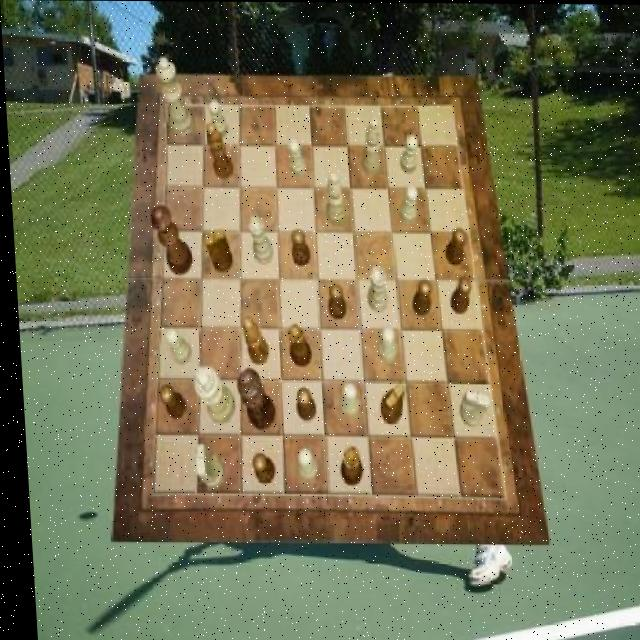bishop: (204, 123, 232, 181), (238, 317, 265, 364)
black-bishop: (231, 367, 271, 430)
black-king: (200, 229, 229, 273), (373, 380, 401, 423)
black-knight: (155, 386, 181, 420), (442, 227, 465, 265), (446, 278, 469, 314), (407, 279, 430, 315), (245, 452, 270, 483), (290, 386, 312, 420), (323, 283, 343, 319), (288, 230, 308, 266)
black-pawn: (147, 207, 190, 277)
black-queen: (283, 323, 308, 365), (333, 446, 358, 486)
black-rook: (357, 116, 381, 174), (320, 171, 343, 225)
white-bishop: (188, 366, 231, 423)
white-king: (190, 444, 219, 486), (454, 389, 486, 427)
white-knight: (160, 327, 186, 365), (395, 185, 416, 224), (396, 135, 417, 172), (286, 139, 305, 179), (207, 99, 226, 138), (373, 325, 392, 363), (290, 448, 311, 482), (334, 384, 355, 418)
white-pawn: (153, 56, 193, 138)
white-queen: (244, 217, 269, 264), (361, 265, 384, 311)
